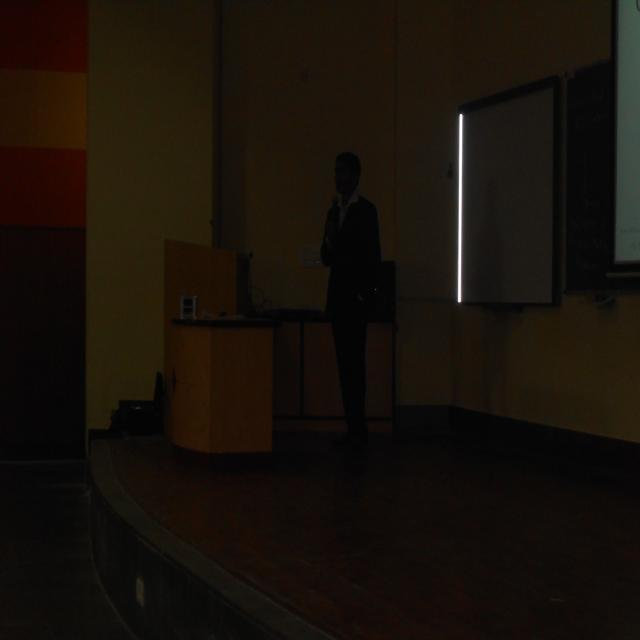People: (305, 113, 411, 499)
Table: (125, 216, 280, 478)
